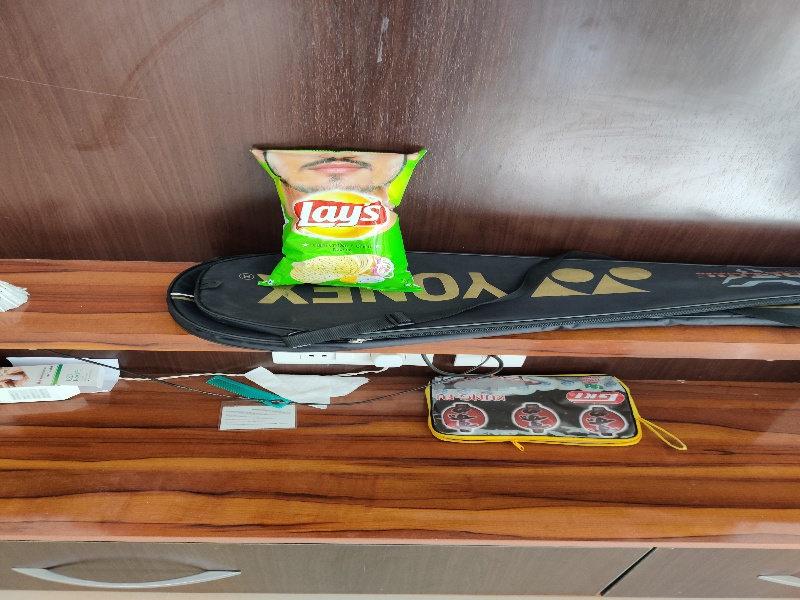lays: (245, 136, 432, 297)
